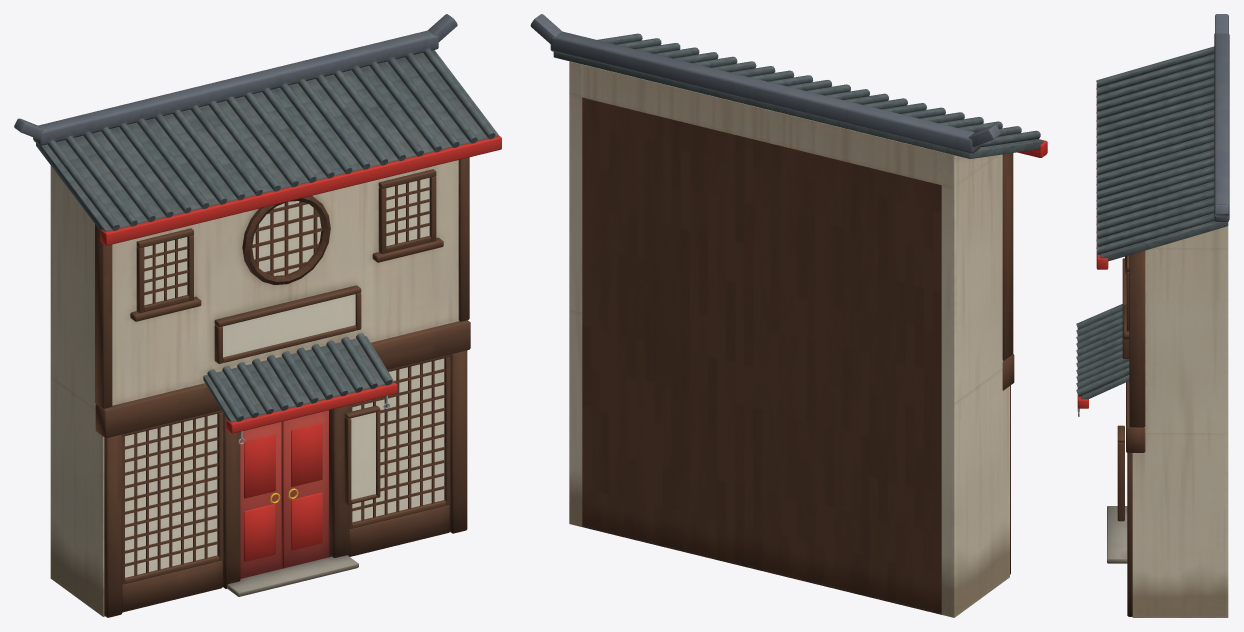
The model's file is tea_house.glb.
3 renders of one model, left to right at view 1: azimuth 30°, elevation 25°; view 2: azimuth 150°, elevation 25°; view 3: azimuth 270°, elevation 25°, orthographic. The views are drawn at different scales.
Parts seen in each view (by area): view 1: tea_house; view 2: tea_house; view 3: tea_house.
Part boxes in pixels (x1=…): tea_house: x1=14, y1=14, x2=501, y2=617; tea_house: x1=530, y1=14, x2=1047, y2=617; tea_house: x1=1076, y1=14, x2=1229, y2=617.
Size of the model in its own units: 7.23 by 7.39 by 2.4.
10 materials, 10 textured.
